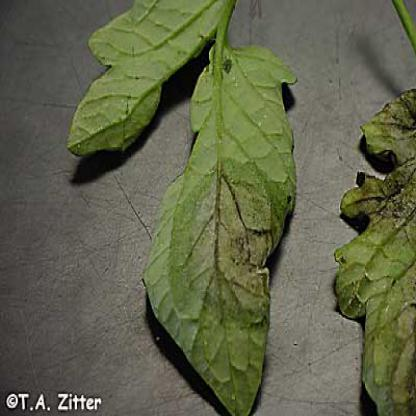tomato leaf late blight: (137, 31, 302, 410), (62, 3, 235, 161), (338, 64, 415, 409)
